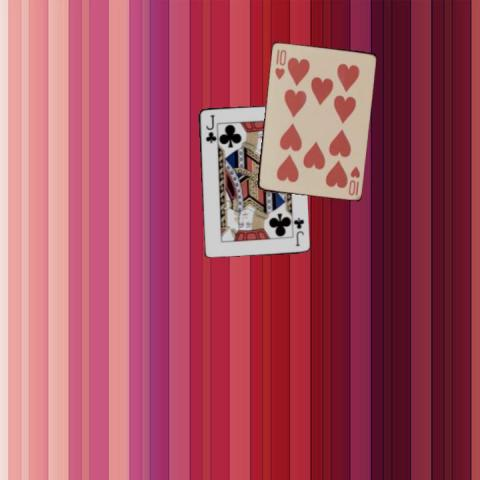10h: (346, 163, 362, 197), (272, 46, 287, 81)
Jc: (291, 215, 305, 247), (203, 112, 216, 144)
